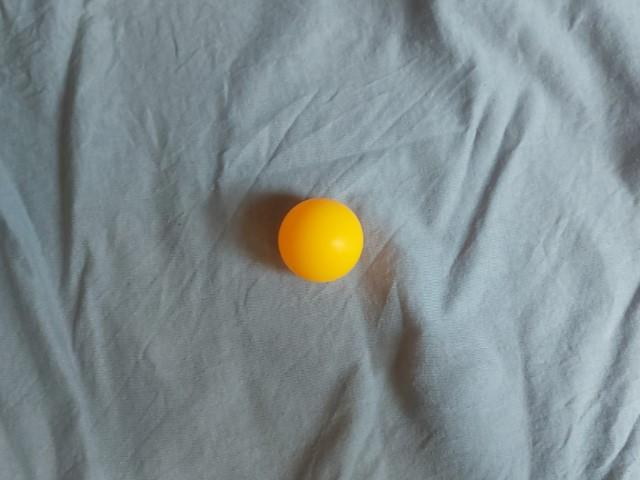oball: (268, 191, 370, 291)
